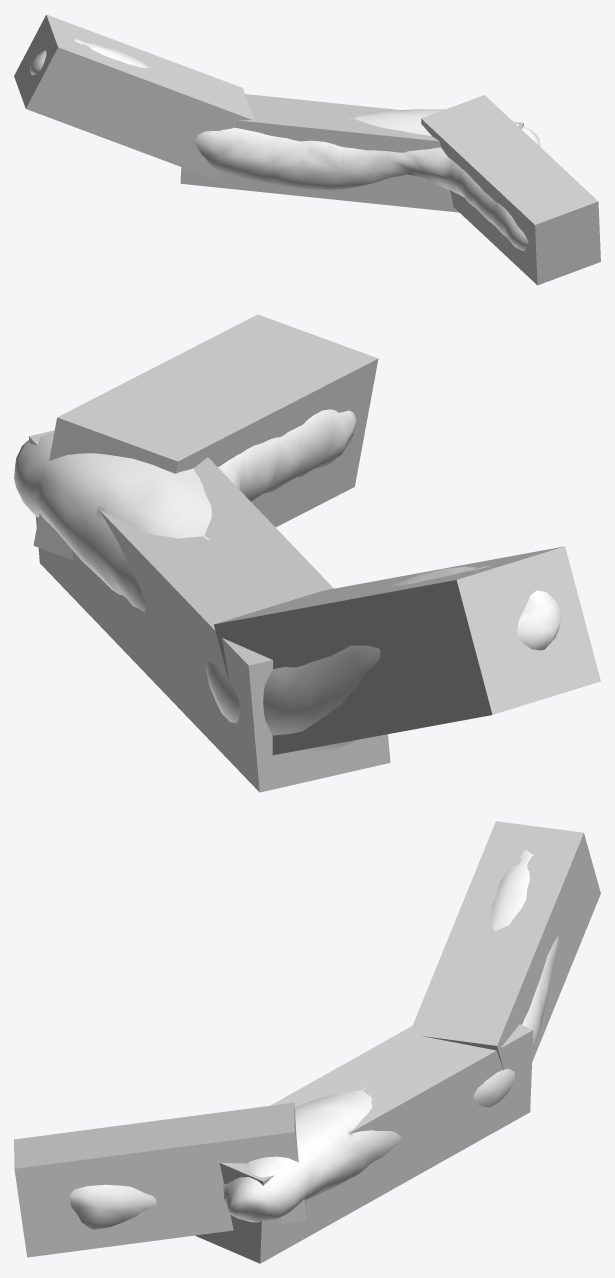
Rendered from Coral_2.glb.
The picture shows the model from 3 angles, top to bottom: view 1: azimuth 30°, elevation 25°; view 2: azimuth 150°, elevation 25°; view 3: azimuth 270°, elevation 25°; orthographic projection. The views are drawn at different scales.
Visible parts, largest first — view 1: Cube.004, Cube.005, A03612_Koralle2.001, Cube.003; view 2: Cube.004, Cube.003, Cube.005, A03612_Koralle2.001; view 3: Cube.005, Cube.003, Cube.004, A03612_Koralle2.001.
Part boxes in pixels (x1=…): Cube.004: x1=14, y1=14, x2=252, y2=179; Cube.005: x1=421, y1=95, x2=600, y2=285; A03612_Koralle2.001: x1=30, y1=38, x2=540, y2=250; Cube.003: x1=180, y1=94, x2=523, y2=212; Cube.004: x1=214, y1=546, x2=600, y2=755; Cube.003: x1=29, y1=430, x2=390, y2=792; Cube.005: x1=33, y1=314, x2=378, y2=560; A03612_Koralle2.001: x1=14, y1=409, x2=561, y2=753; Cube.005: x1=14, y1=1102, x2=307, y2=1257; Cube.003: x1=195, y1=1024, x2=533, y2=1263; Cube.004: x1=410, y1=821, x2=600, y2=1069; A03612_Koralle2.001: x1=69, y1=850, x2=558, y2=1229.
Bounding box in the file's own units: 0.5102 × 0.2117 × 0.4982.
Materials: 1 (1 with a texture image).
